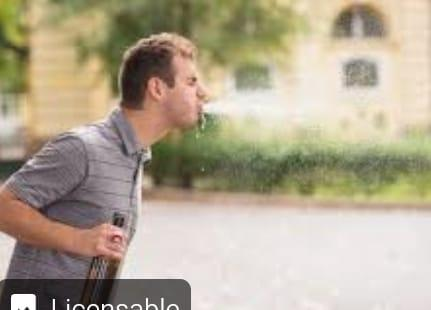Spitting: (102, 34, 241, 141)
